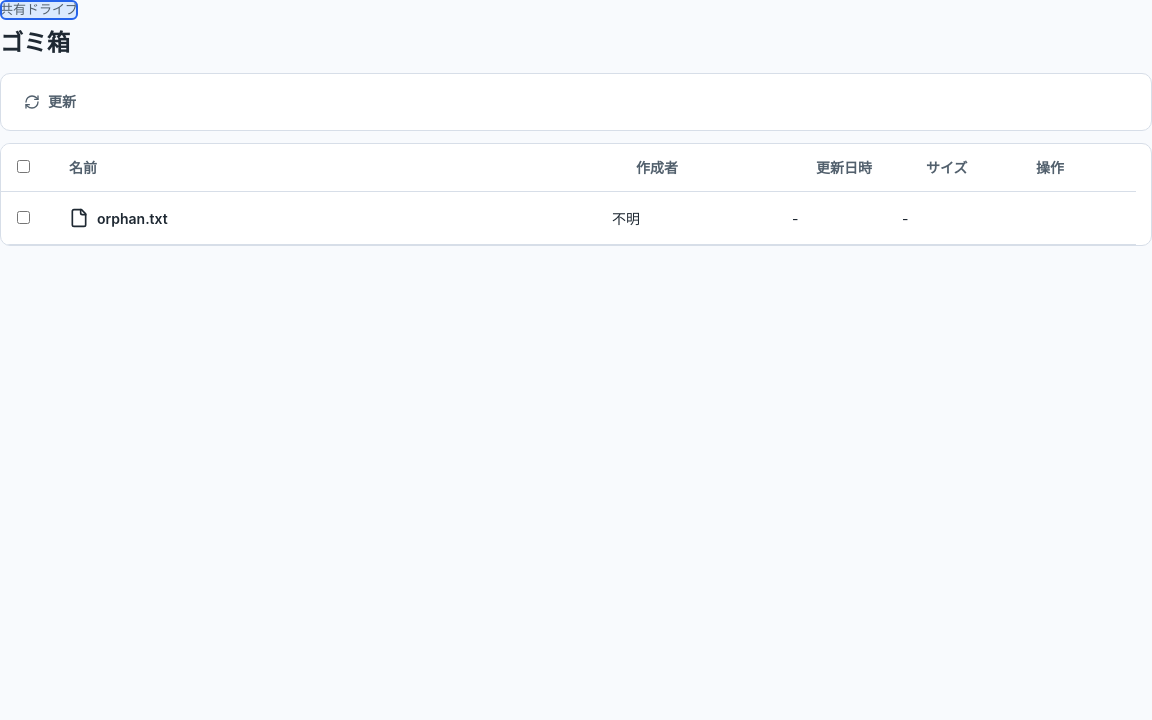
Test: DrivePage drag and drop upload › shows root restore and select destination choices for missing parent
Click the checkbox named "orphanを選択" at (24, 217), box [17,211,30,224]
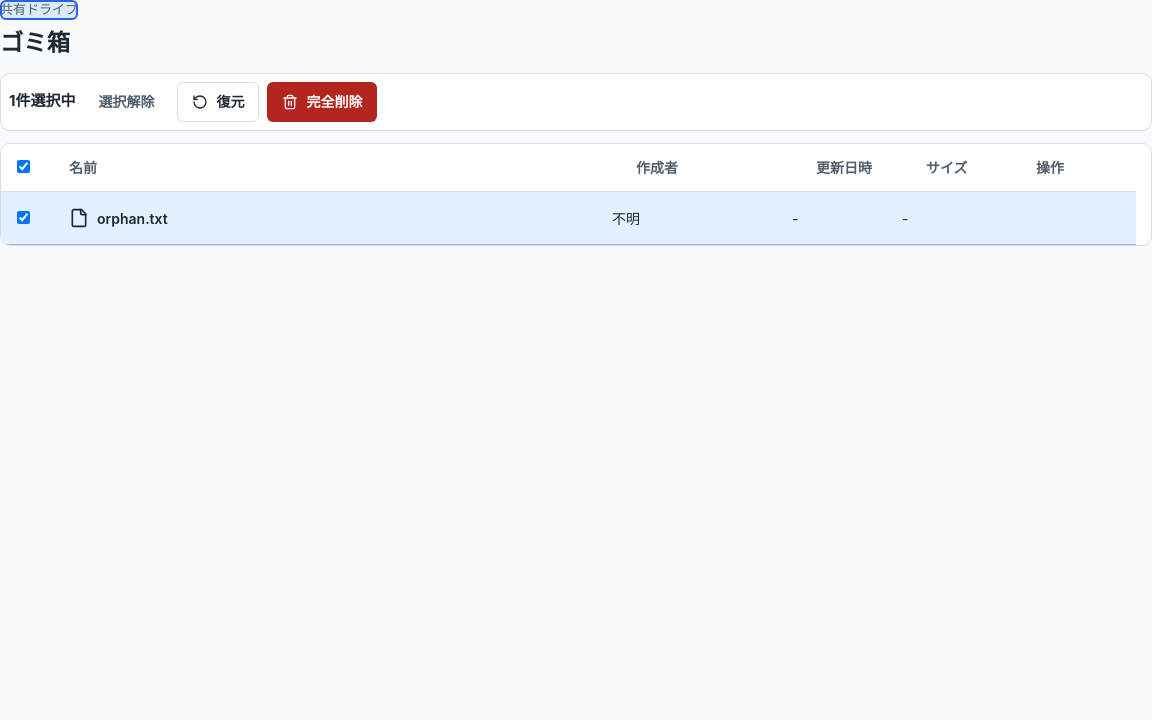
Click the button "復元" at (218, 102), box [178,82,260,122]
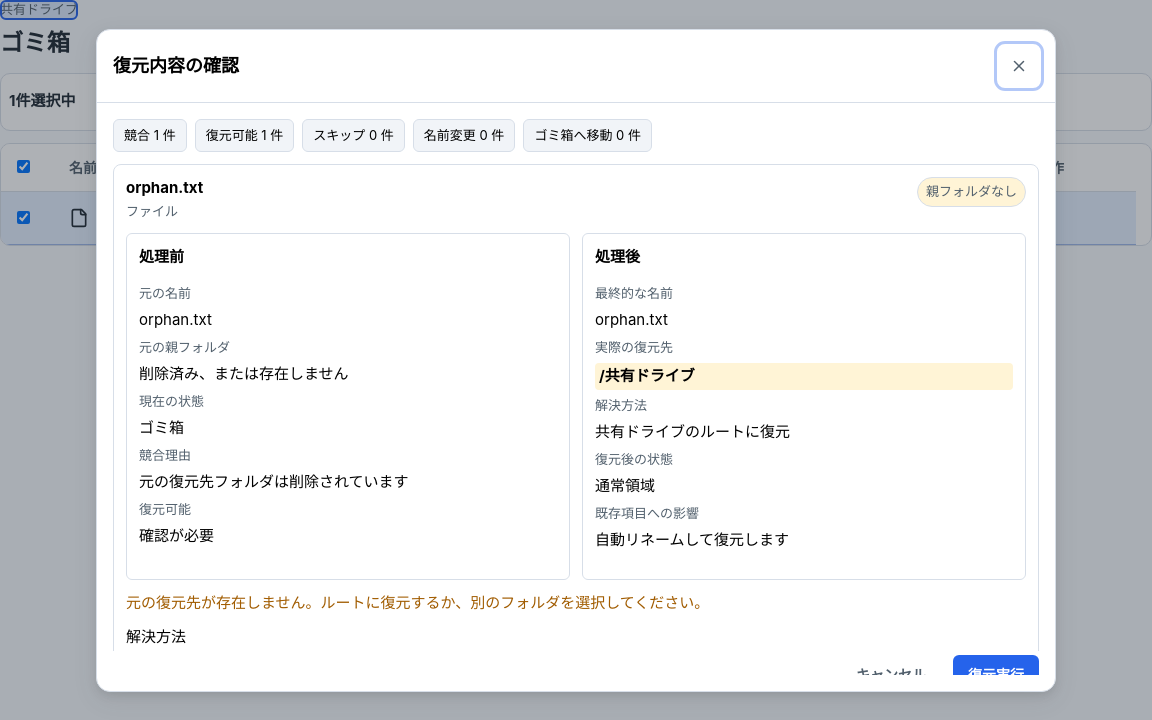
Expected: the text "親フォルダなし" is shown, [917,177,1026,206]
Expected: the text "共有ドライブのルートに復元" is shown, [595,422,790,441]
Expected: the text "/共有ドライブ" is shown, [595,363,1013,390]
